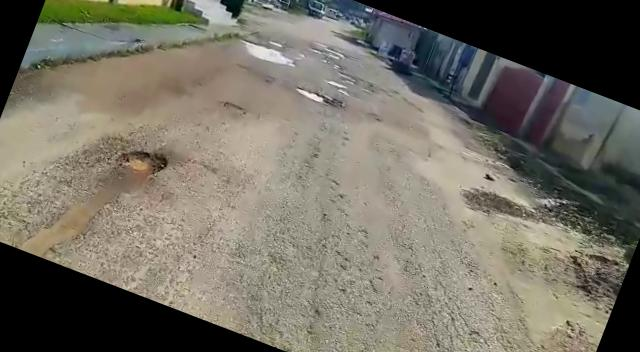pothole: (114, 139, 169, 183), (240, 35, 296, 69), (290, 81, 338, 109), (326, 78, 355, 94)
